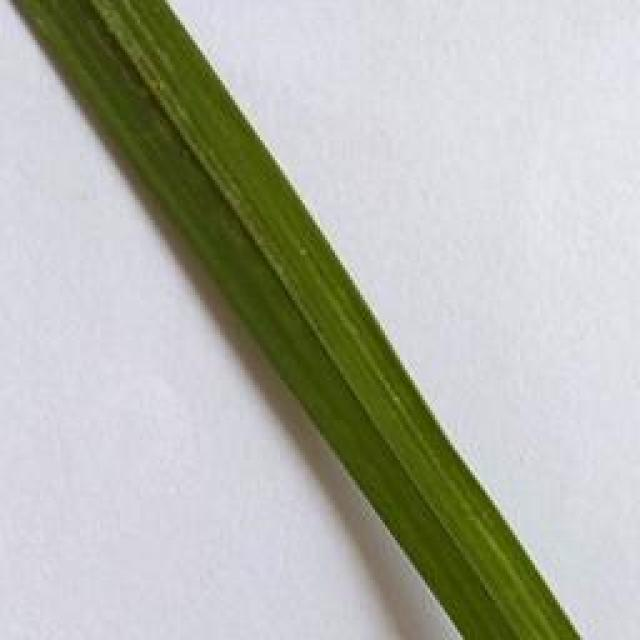Healthy-Plant: (7, 0, 581, 640)
